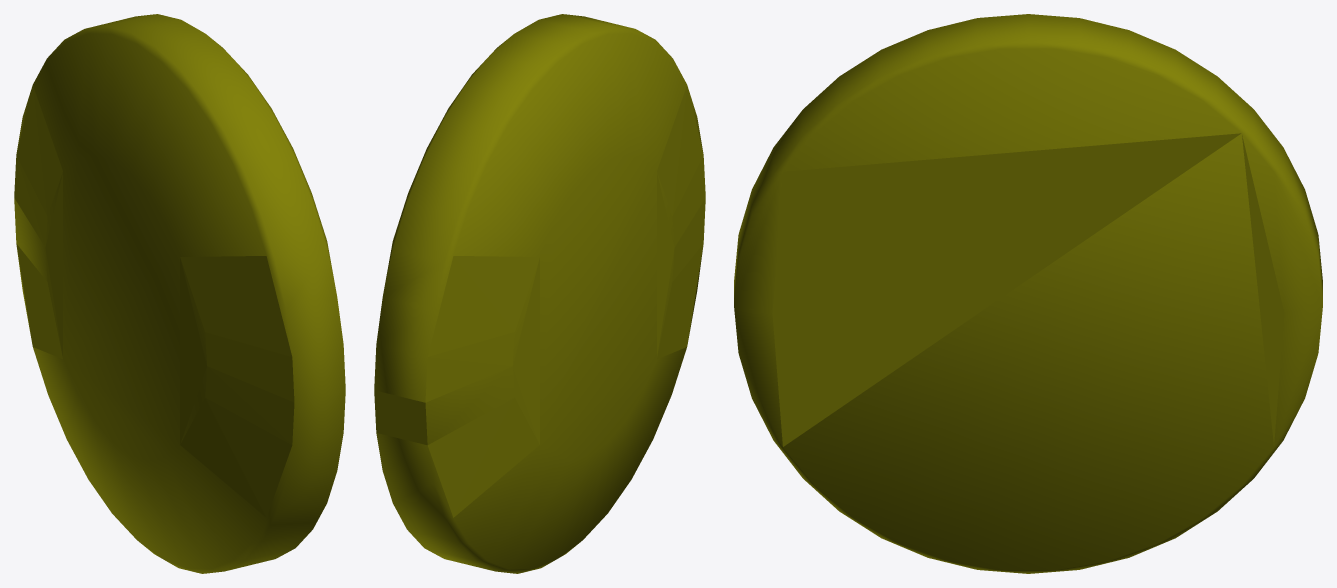
The picture shows the model from 3 angles, left to right: view 1: azimuth 30°, elevation 25°; view 2: azimuth 150°, elevation 25°; view 3: azimuth 270°, elevation 25°; orthographic projection. The views are drawn at different scales.
Parts seen in each view (by area): view 1: gp4_link_6_t; view 2: gp4_link_6_t; view 3: gp4_link_6_t.
Boxes of the visible parts, box(x1,y1,x2,y2) form: gp4_link_6_t: box(14, 14, 345, 573); gp4_link_6_t: box(374, 14, 705, 573); gp4_link_6_t: box(734, 14, 1322, 573).
Bounding box in the file's own units: 0.0095 × 0.052 × 0.052.
